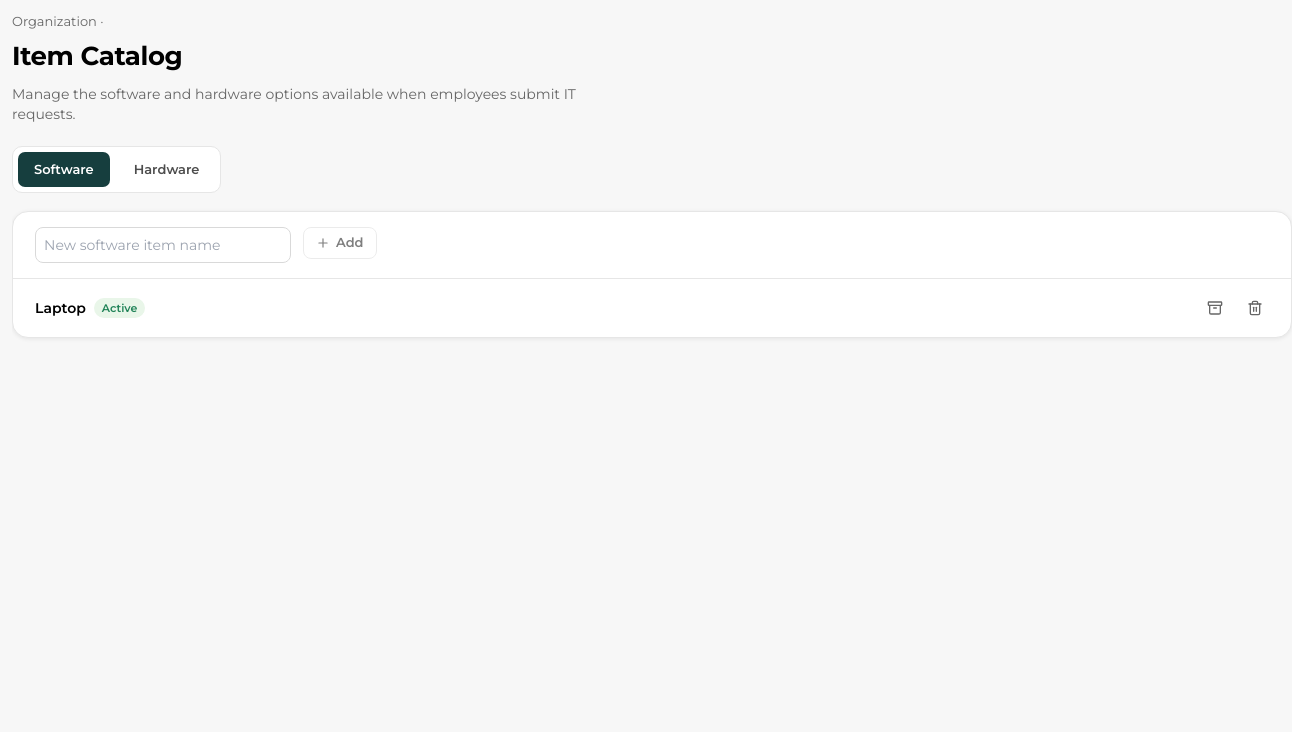
Test case: deleting an item removes it from the list and shows a toast
Expected: the text "Laptop" is shown, [35,298,86,318]
Click the button named "Delete Laptop" at (1255, 308), box [1241,294,1269,322]
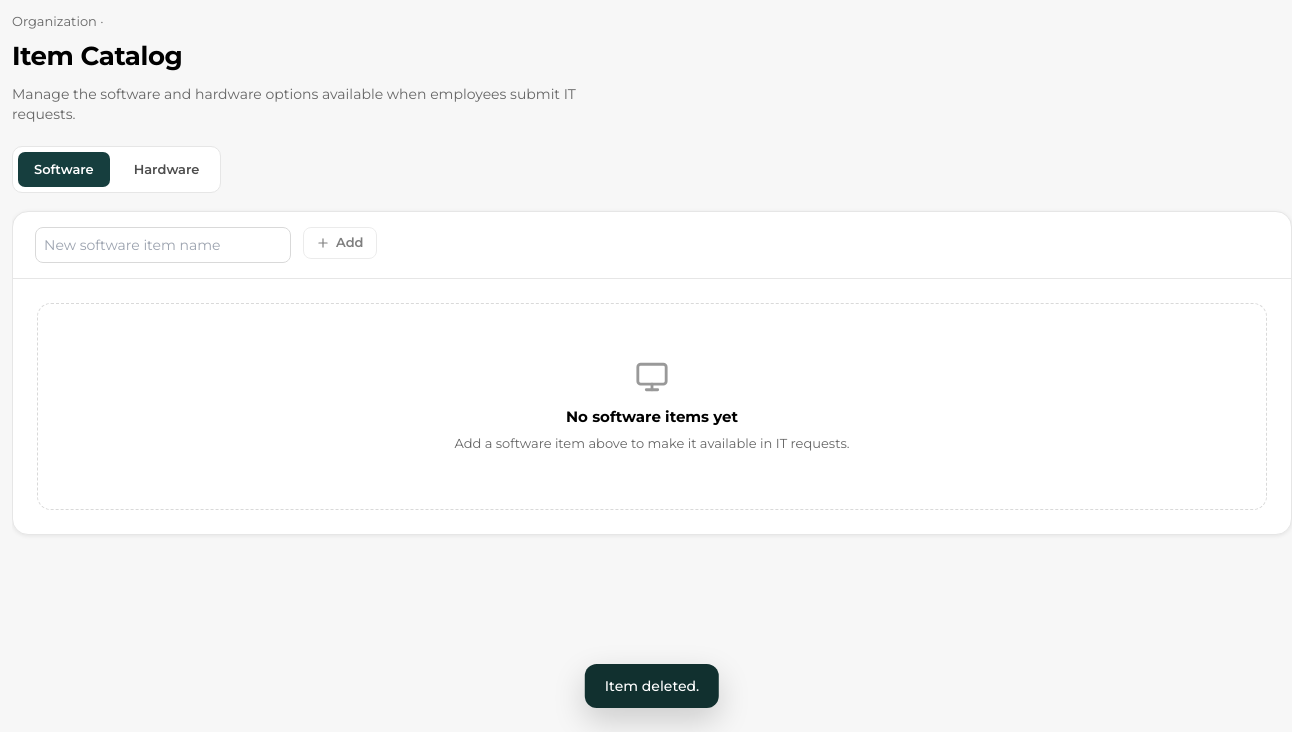
Expected: the text "Item deleted." is shown, [585,664,719,708]
Expected: the text "Laptop" is gone
